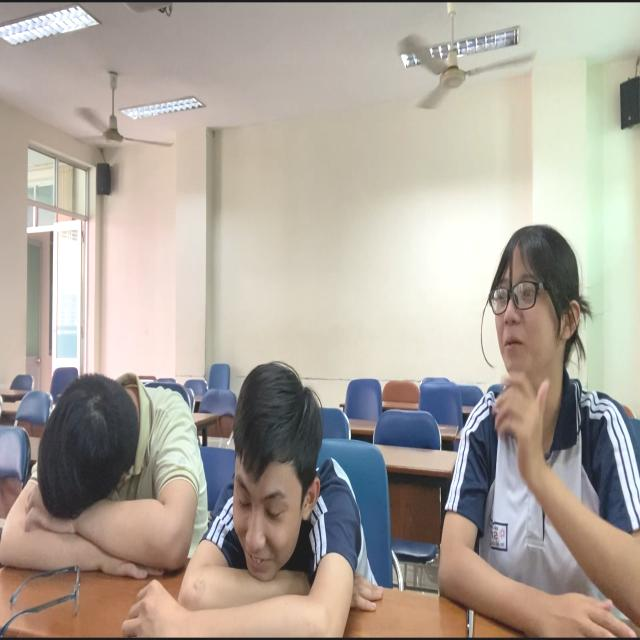sleep: (1, 357, 221, 584)
